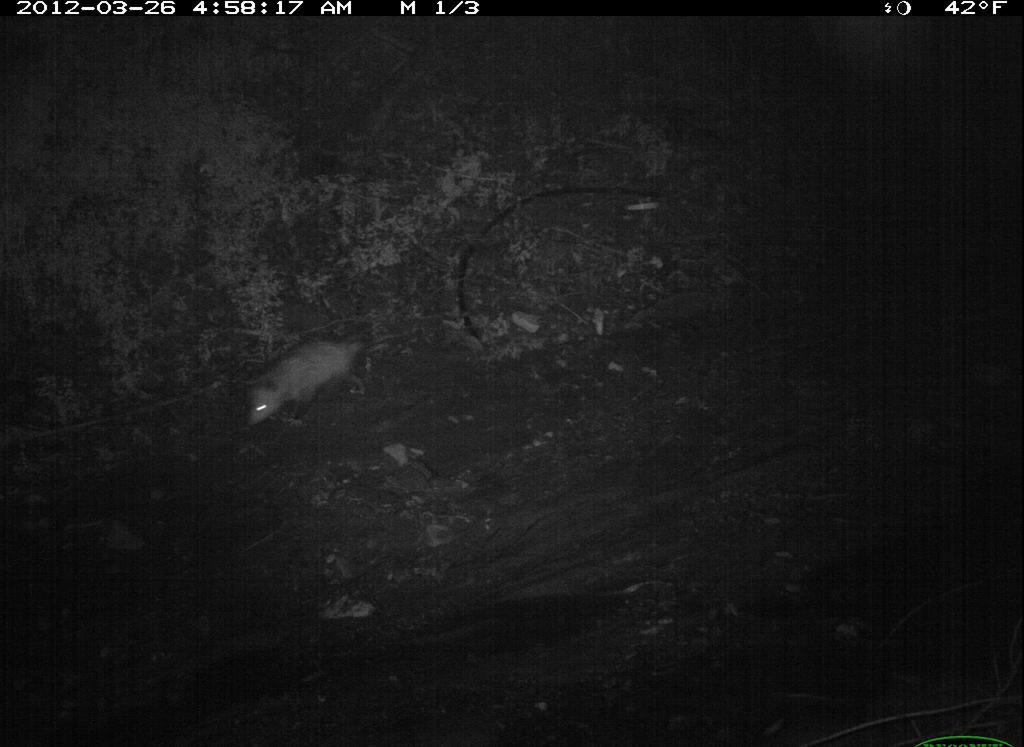opossum: (243, 329, 411, 432)
